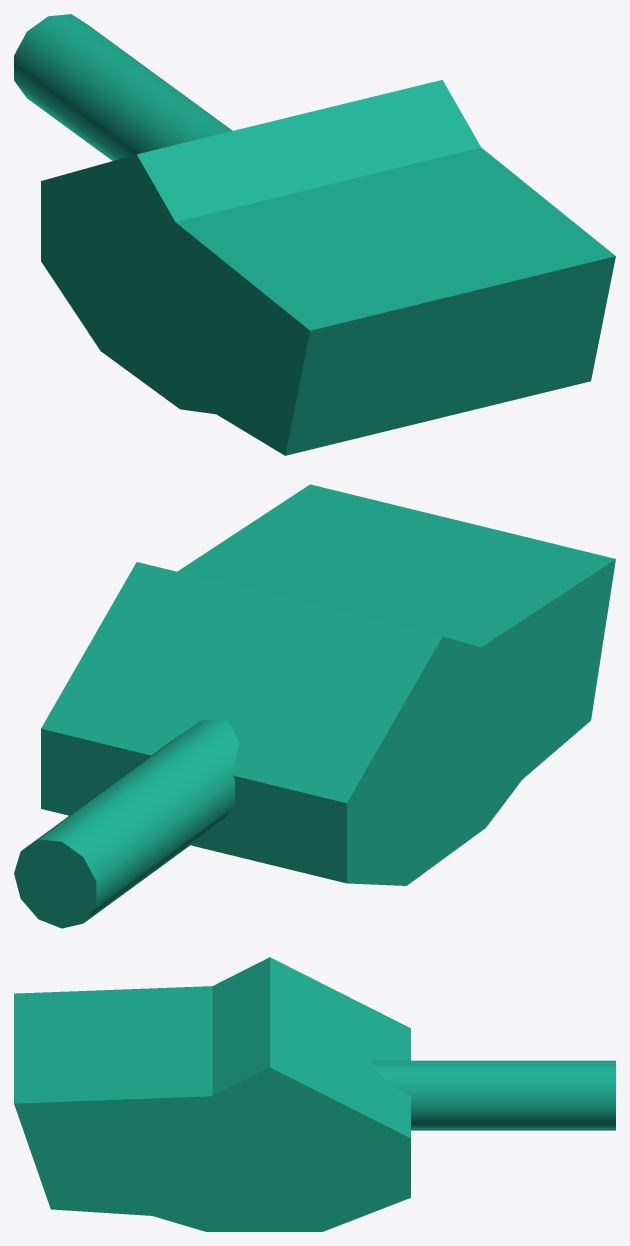
File: carGun.obj
The picture shows the model from 3 angles, top to bottom: view 1: azimuth 30°, elevation 25°; view 2: azimuth 150°, elevation 25°; view 3: azimuth 270°, elevation 25°; orthographic projection. The views are drawn at different scales.
Visible parts, largest first — view 1: Line006; view 2: Line006; view 3: Line006.
Boxes of the visible parts, x1,y1,x2,y2 form: Line006: [14, 14, 615, 455]; Line006: [14, 484, 615, 928]; Line006: [14, 957, 615, 1231].
Size of the model in its own units: 10 by 6.97 by 23.1.
